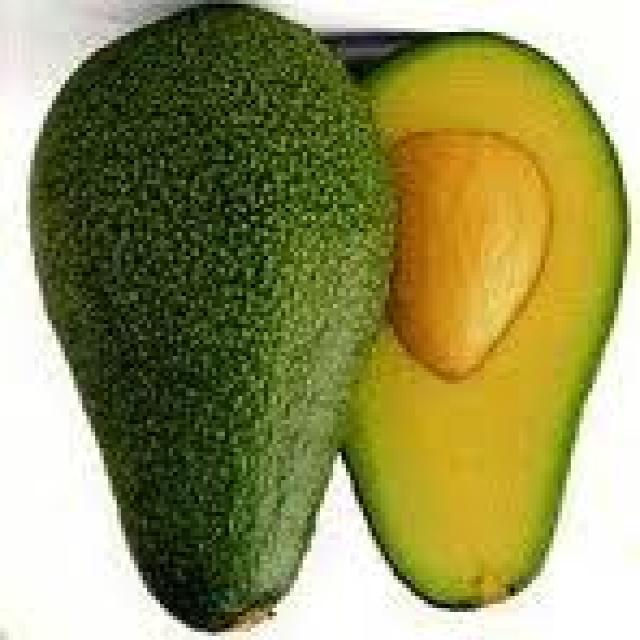Avocado: (18, 4, 420, 636), (341, 20, 640, 620)
